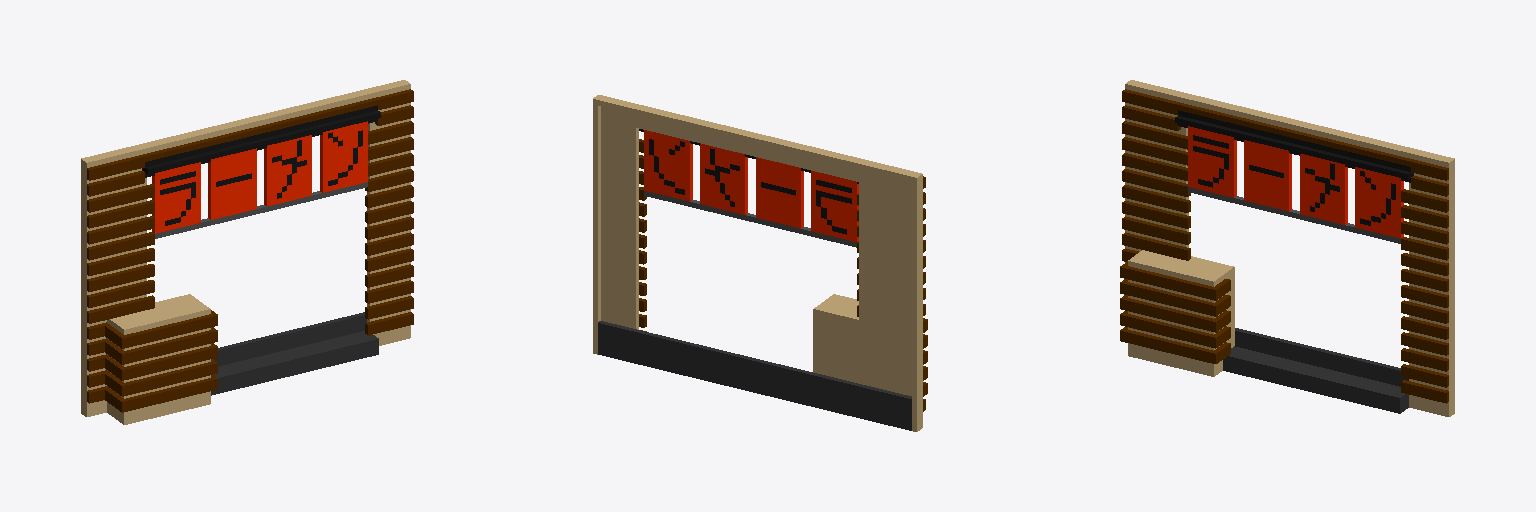
3 views of the same model, side by side, from view 1: azimuth 30°, elevation 25°; view 2: azimuth 150°, elevation 25°; view 3: azimuth 330°, elevation 25° (orthographic).
Parts seen in each view (by area): view 1: StoreFront_Ramen; view 2: StoreFront_Ramen; view 3: StoreFront_Ramen.
Boxes of the visible parts, x1=… form: StoreFront_Ramen: x1=81, y1=80, x2=413, y2=424; StoreFront_Ramen: x1=593, y1=95, x2=927, y2=431; StoreFront_Ramen: x1=1120, y1=80, x2=1454, y2=416.
Bounding box in the file's own units: 64 × 48 × 9.
Materials: 1 (1 with a texture image).